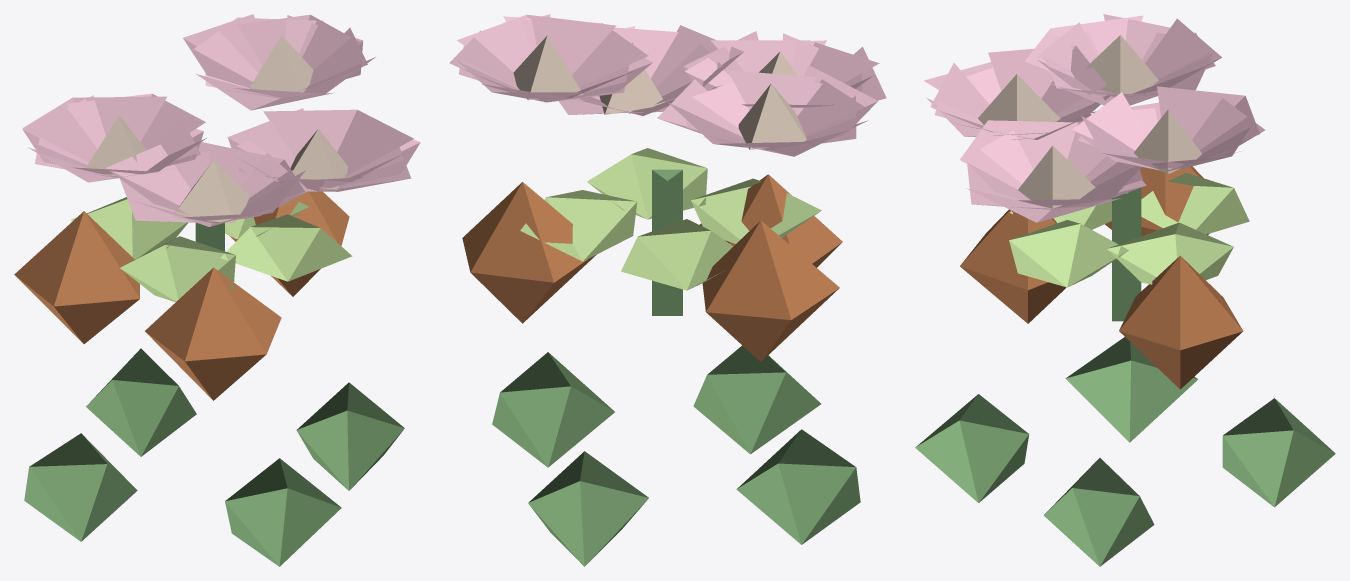
File: shui.lian__bloom.glb
The picture shows the model from 3 angles, left to right: view 1: azimuth 30°, elevation 25°; view 2: azimuth 150°, elevation 25°; view 3: azimuth 270°, elevation 25°; orthographic projection. The views are drawn at different scales.
Parts seen in each view (by area): view 1: shui.lian__bloom; view 2: shui.lian__bloom; view 3: shui.lian__bloom.
Boxes of the visible parts, x1,y1,x2,y2 form: shui.lian__bloom: (14,14,420,566); shui.lian__bloom: (449,14,886,566); shui.lian__bloom: (915,14,1335,566).
Bounding box in the file's own units: 1.09 × 1.27 × 1.09.
